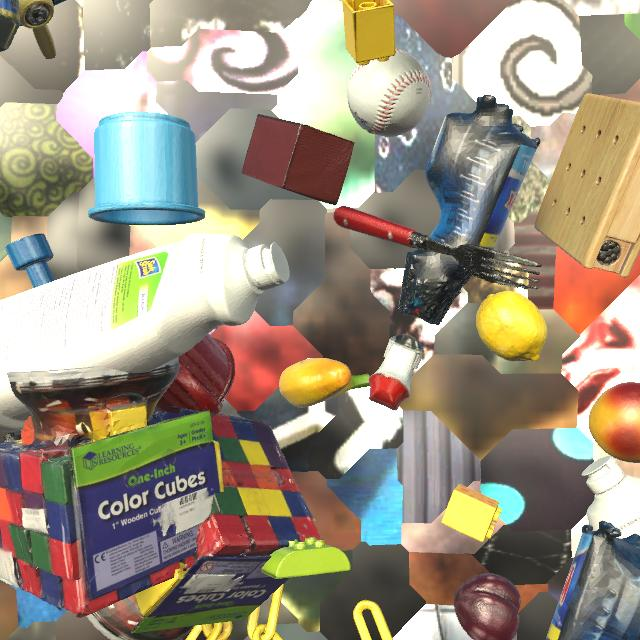ycb_010_potted_meat_can: (0, 0, 20, 52)
ycb_011_banana: (279, 358, 370, 408)
ycb_014_lemon: (476, 291, 548, 361)
ycb_015_peach: (588, 382, 640, 463)
ycb_018_plum: (454, 573, 521, 640)
